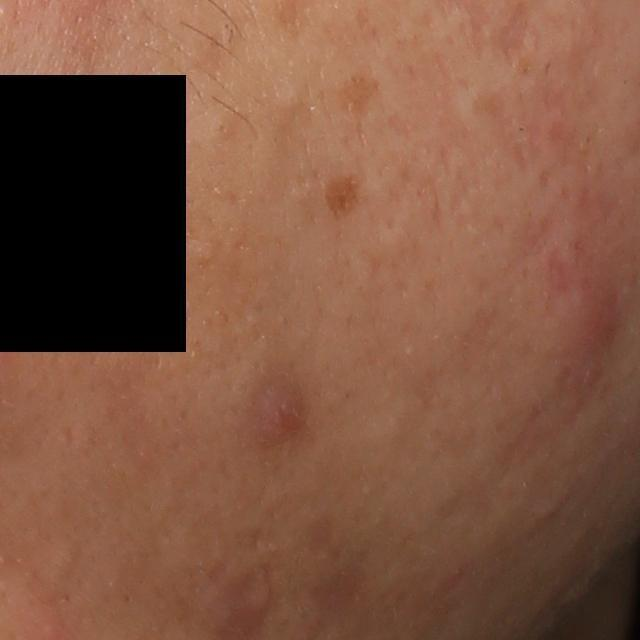comedo: (529, 500, 564, 526)
papule: (546, 269, 624, 367), (251, 377, 304, 450)
